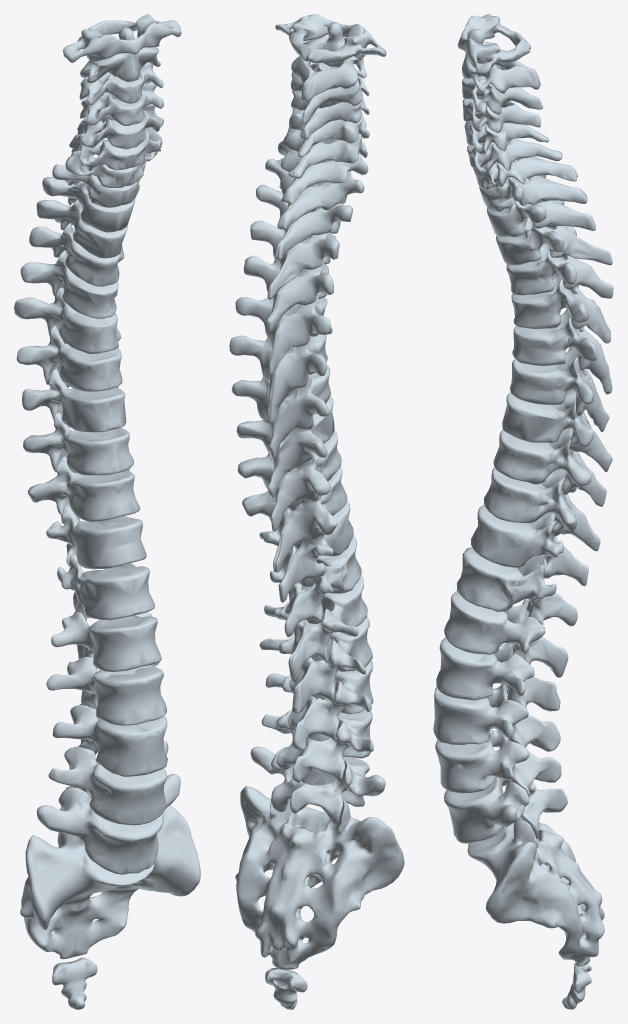
The model's file is rachis.glb.
3 views of the same model, side by side, from view 1: azimuth 30°, elevation 25°; view 2: azimuth 150°, elevation 25°; view 3: azimuth 270°, elevation 25° (orthographic). The views are drawn at different scales.
Visible parts, largest first — view 1: rachis; view 2: rachis; view 3: rachis.
Part boxes in pixels (box(x1,y1,x2,y2)): rachis: box(14, 14, 200, 1009); rachis: box(229, 14, 404, 1009); rachis: box(433, 14, 613, 1009).
Size of the model in its own units: 0.1229 by 0.7225 by 0.1202.
